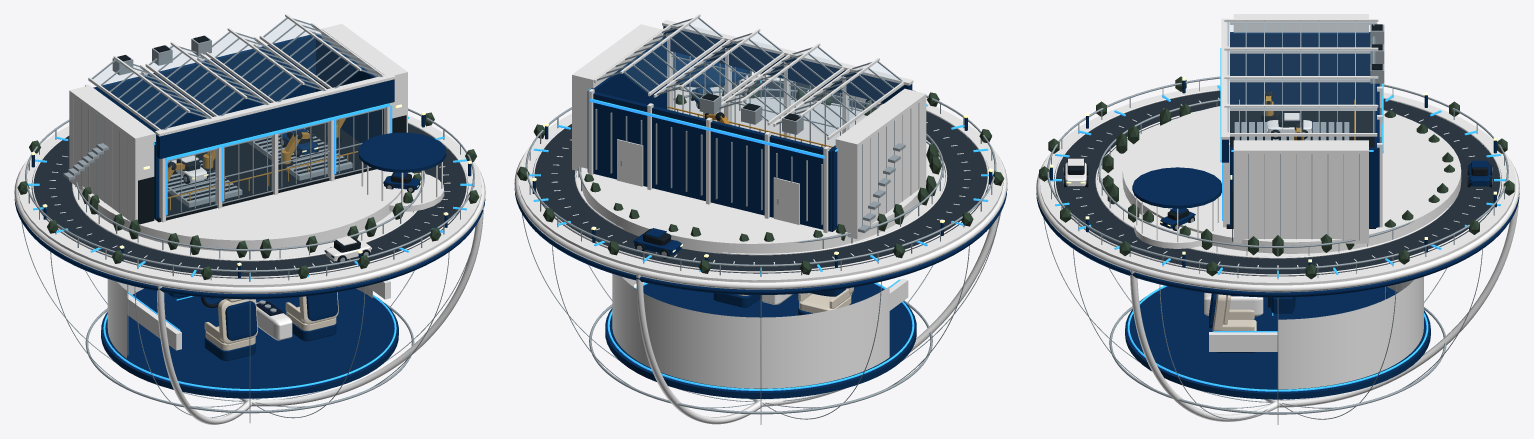
File: hyundai-world.glb
3 renders of one model, left to right at view 1: azimuth 30°, elevation 25°; view 2: azimuth 150°, elevation 25°; view 3: azimuth 270°, elevation 25°, orthographic. The views are drawn at different scales.
Parts seen in each view (by area): view 1: White_FFFFFF (×2), Hyundai_Blue_002C5F, Brushed_aluminium, Window_panels, Test_track_asphalt, Graphite_and_rubber, Landscaping, Integrated_blue_lighting, Warm_white_seat, Assembly_robot; view 2: White_FFFFFF, Hyundai_Blue_002C5F (×2), Brushed_aluminium, Test_track_asphalt, Window_panels, Landscaping, Integrated_blue_lighting, Warm_white_seat; view 3: White_FFFFFF, Hyundai_Blue_002C5F, Test_track_asphalt, Window_panels, Brushed_aluminium, Landscaping, Graphite_and_rubber, Integrated_blue_lighting, Warm_white_seat.
Part boxes in pixels (x1,y1,x2,y2): White_FFFFFF (×2): (14, 14, 485, 424); Hyundai_Blue_002C5F: (14, 34, 485, 398); Brushed_aluminium: (21, 16, 474, 422); Window_panels: (94, 19, 384, 214); Test_track_asphalt: (31, 123, 468, 278); Graphite_and_rubber: (117, 35, 415, 307); Landscaping: (17, 112, 479, 279); Integrated_blue_lighting: (28, 103, 474, 390); Warm_white_seat: (204, 292, 338, 350); Assembly_robot: (167, 151, 358, 210); White_FFFFFF: (514, 14, 1007, 424); Hyundai_Blue_002C5F (×2): (514, 26, 1007, 398); Brushed_aluminium: (522, 16, 999, 424); Test_track_asphalt: (532, 81, 988, 273); Window_panels: (605, 19, 899, 146); Landscaping: (517, 86, 1004, 274); Integrated_blue_lighting: (529, 80, 993, 390); Warm_white_seat: (738, 287, 853, 313); White_FFFFFF: (1036, 14, 1519, 421); Hyundai_Blue_002C5F: (1036, 32, 1519, 399); Test_track_asphalt: (1054, 91, 1501, 276); Window_panels: (1227, 22, 1375, 132); Brushed_aluminium: (1043, 20, 1508, 424); Landscaping: (1039, 76, 1514, 279); Graphite_and_rubber: (1160, 24, 1382, 241); Integrated_blue_lighting: (1047, 48, 1508, 391); Warm_white_seat: (1212, 294, 1256, 331).
Size of the model in its own units: 20.72 by 16.27 by 20.72.
